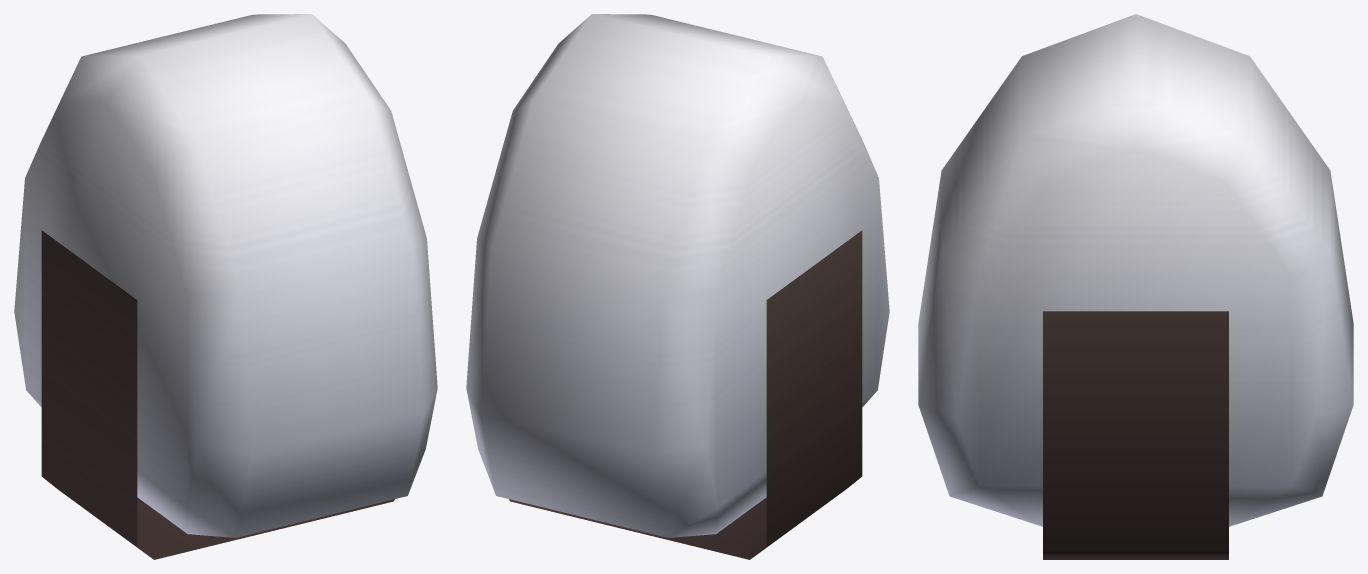
Rendered from cc0-rice-ball-lod1.glb.
The picture shows the model from 3 angles, left to right: view 1: azimuth 30°, elevation 25°; view 2: azimuth 150°, elevation 25°; view 3: azimuth 270°, elevation 25°; orthographic projection. The views are drawn at different scales.
Parts seen in each view (by area): view 1: part_0; view 2: part_0; view 3: part_0.
Boxes of the visible parts, x1,y1,x2,y2 form: part_0: (14,14,437,559); part_0: (466,14,889,559); part_0: (918,14,1353,559).
Size of the model in its own units: 0.0812 by 0.1309 by 0.1152.
1 material, 1 textured.
